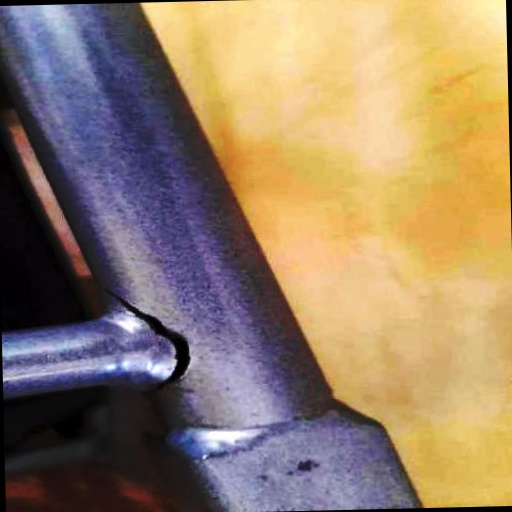crack: (89, 272, 203, 405)
